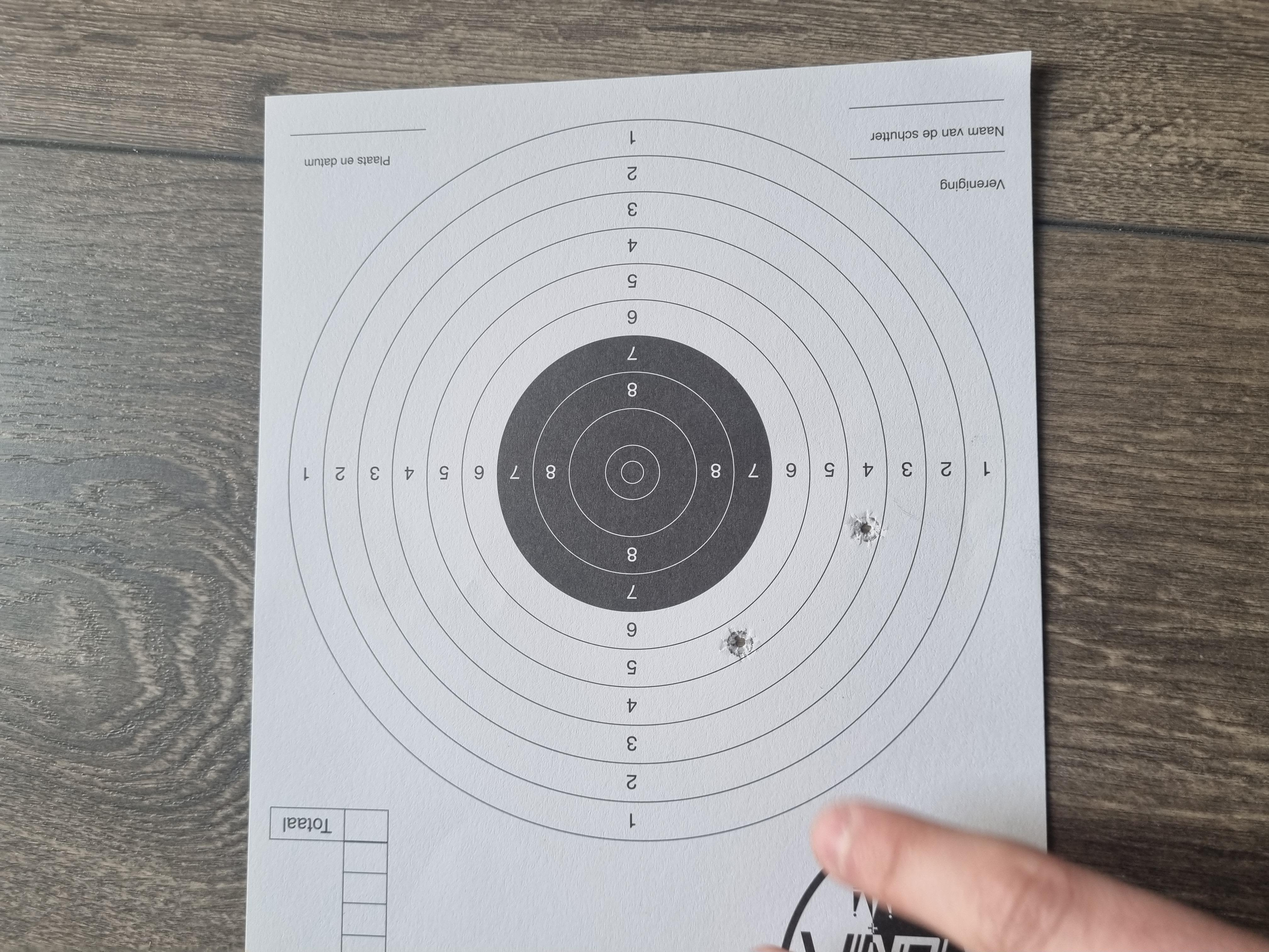hole: (540, 637, 586, 662), (388, 543, 433, 565)
